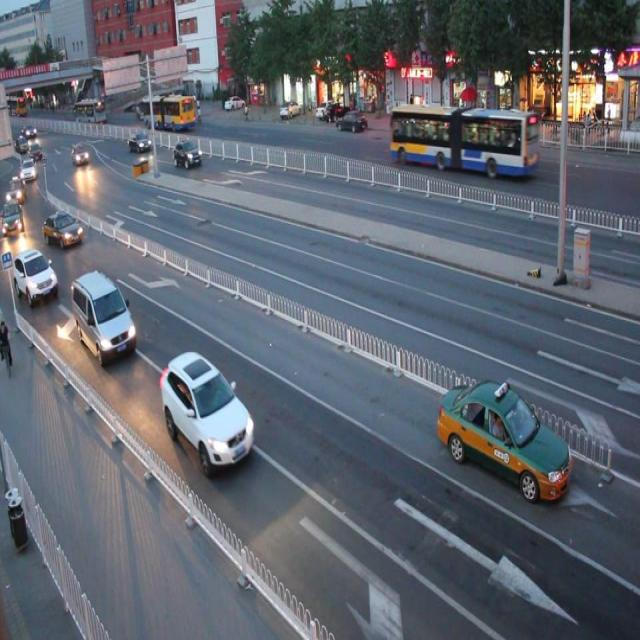car: (438, 375, 570, 500), (160, 351, 256, 474), (72, 268, 136, 361), (173, 138, 202, 169)
van: (388, 102, 538, 180)
